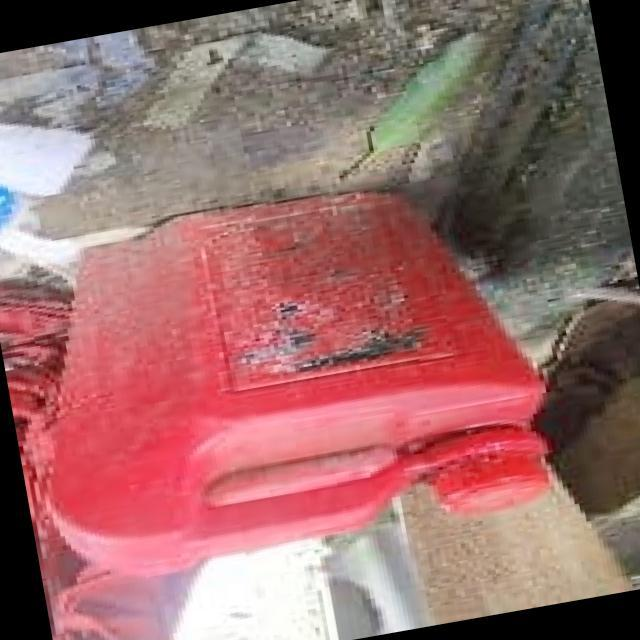HDPE Plastic: (50, 182, 554, 580)
